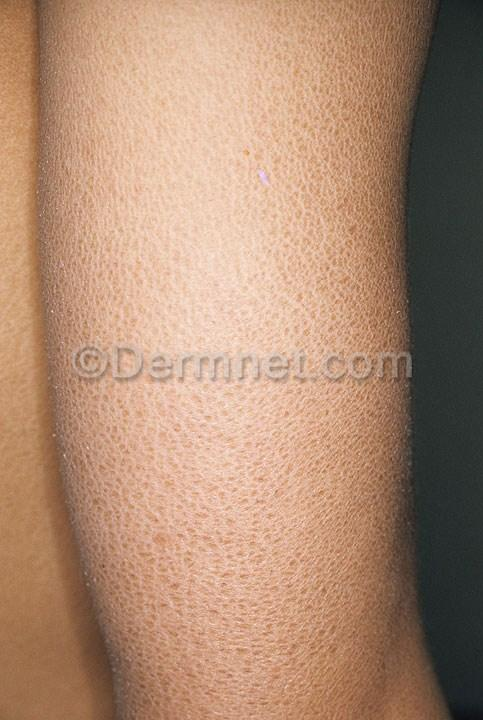liquenificacion 1: (34, 0, 459, 719)
xerosis 1: (37, 1, 102, 596)
